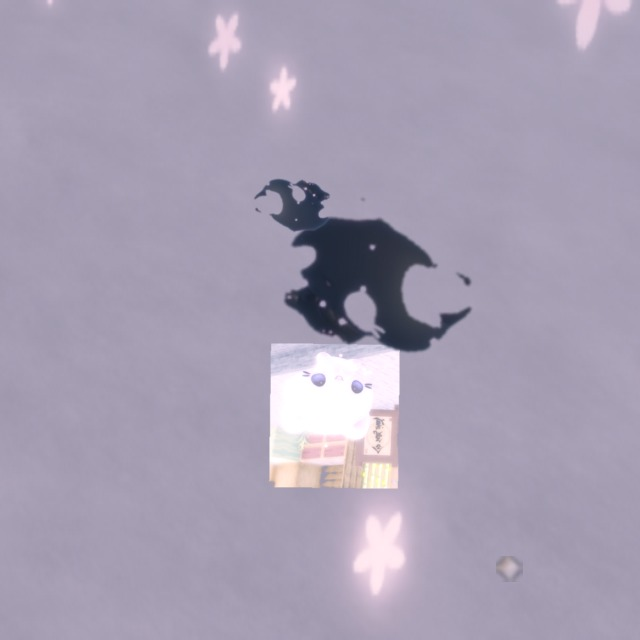urso_branco: (269, 343, 400, 489), (496, 556, 523, 582)
urso_preto: (226, 152, 523, 419), (235, 153, 353, 256)
